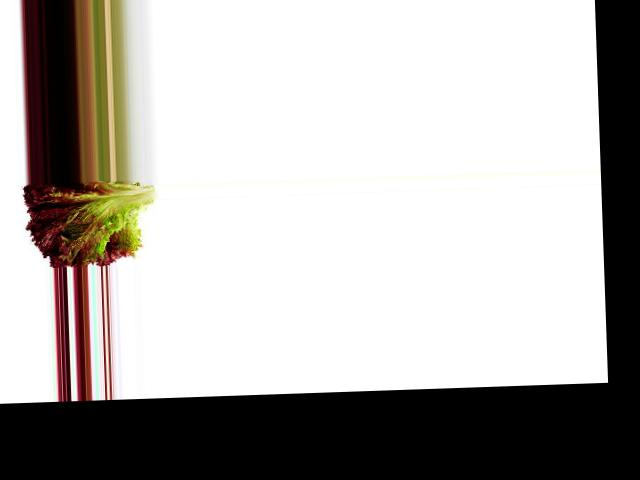lettuce: (15, 179, 161, 267)
